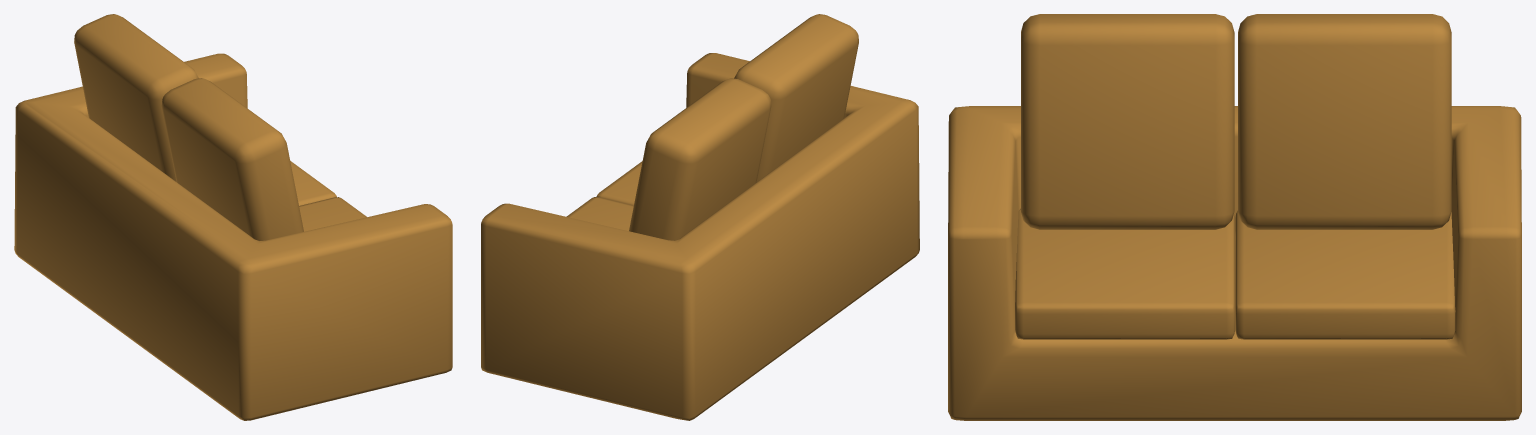
File: Couch2.fbx
3 views of the same model, side by side, from view 1: azimuth 30°, elevation 25°; view 2: azimuth 150°, elevation 25°; view 3: azimuth 270°, elevation 25° (orthographic). The views are drawn at different scales.
Parts seen in each view (by area): view 1: Couch2; view 2: Couch2; view 3: Couch2.
Boxes of the visible parts, x1,y1,x2,y2 form: Couch2: [14, 14, 452, 420]; Couch2: [481, 14, 919, 420]; Couch2: [948, 14, 1521, 420].
Size of the model in its own units: 1.18 by 2.21 by 1.32.
